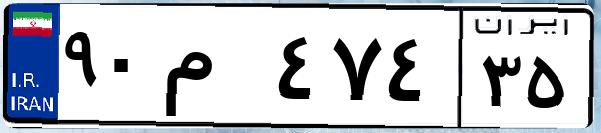0: (110, 28, 158, 98)
3: (475, 38, 525, 113)
4: (270, 28, 330, 110), (385, 28, 445, 110)
5: (525, 38, 570, 115)
7: (330, 28, 385, 110)
9: (57, 26, 110, 100)
م: (158, 20, 270, 120)
